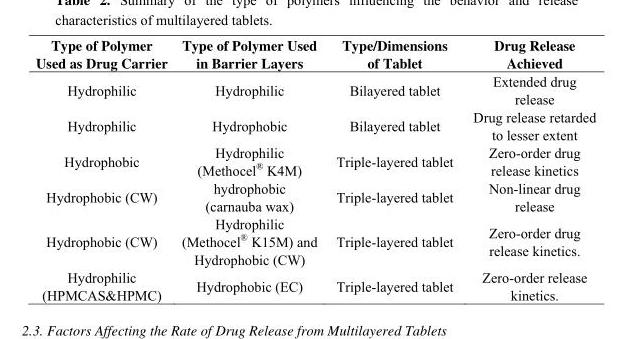table: (35, 34, 595, 302)
table column: (173, 34, 325, 302), (35, 34, 173, 302), (325, 34, 462, 302), (462, 34, 595, 302)
table column header: (35, 34, 595, 72)
table row: (35, 214, 595, 268), (35, 34, 595, 72), (35, 107, 595, 143), (35, 178, 595, 214), (35, 72, 595, 107), (35, 143, 595, 178), (35, 268, 595, 302)
